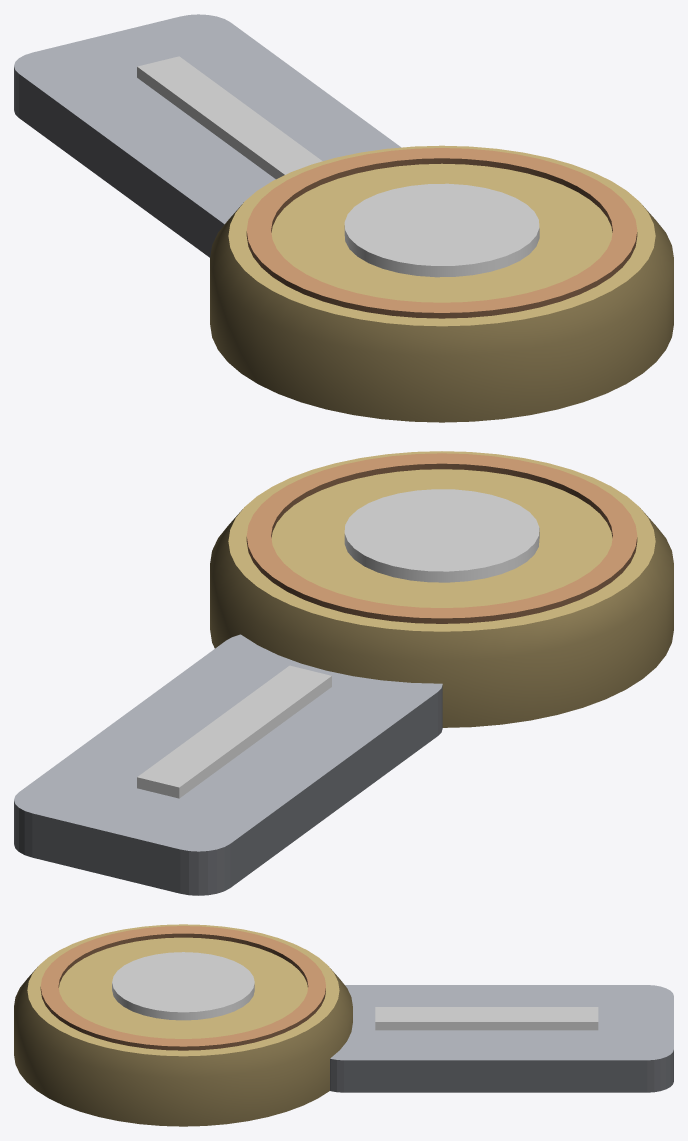
The model's file is pin_coin_validator.glb.
The picture shows the model from 3 angles, top to bottom: view 1: azimuth 30°, elevation 25°; view 2: azimuth 150°, elevation 25°; view 3: azimuth 270°, elevation 25°; orthographic projection. The views are drawn at different scales.
Visible parts, largest first — view 1: Korpus, Licht; view 2: Korpus, Licht; view 3: Korpus, Licht.
Part boxes in pixels (x1,y1,x2,y2): Korpus: [14, 14, 673, 422]; Licht: [137, 56, 539, 277]; Korpus: [14, 451, 673, 895]; Licht: [137, 489, 539, 798]; Korpus: [14, 924, 673, 1126]; Licht: [112, 952, 598, 1030].
Size of the model in its own units: 0.85 by 0.2013 by 1.66.
